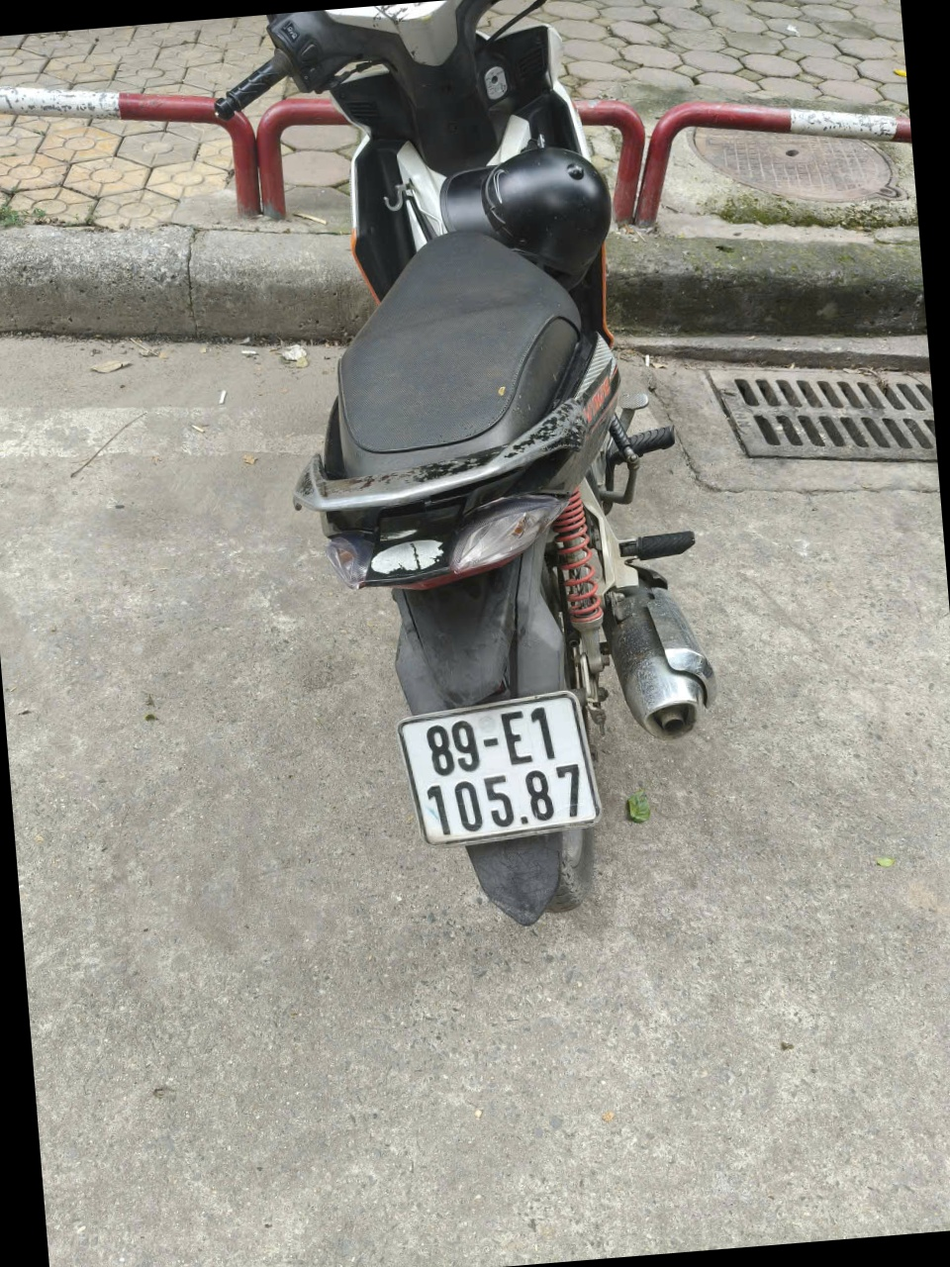plate: (576, 76, 687, 116)
